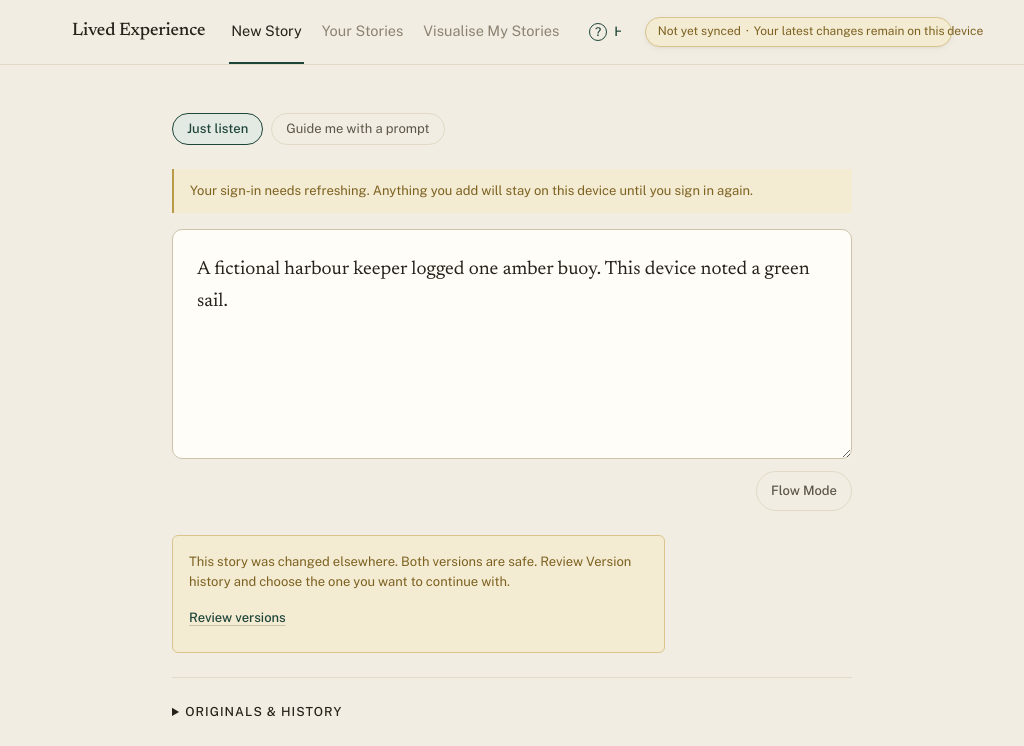
Scenario: App capture integration › preserves both cloud-conflict candidates until Version history receives a deliberate choice
Check: the text "Both versions are safe" is shown, box x1=189 y1=554 x2=631 y2=589
Type " A later device note stayed local." into the text box named "Write or edit your story".
click(512, 344); type(" A later device note stayed local.")  # box x1=172 y1=228 x2=852 y2=459
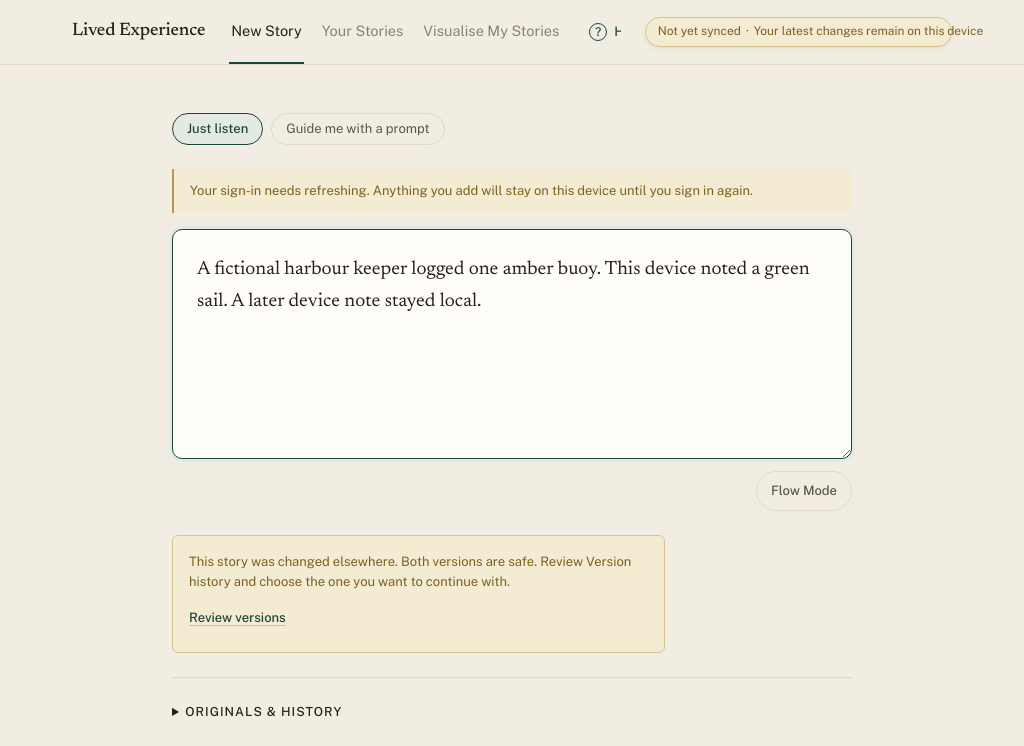
Click the button "Review versions".
click(237, 618)  # box x1=189 y1=600 x2=286 y2=636
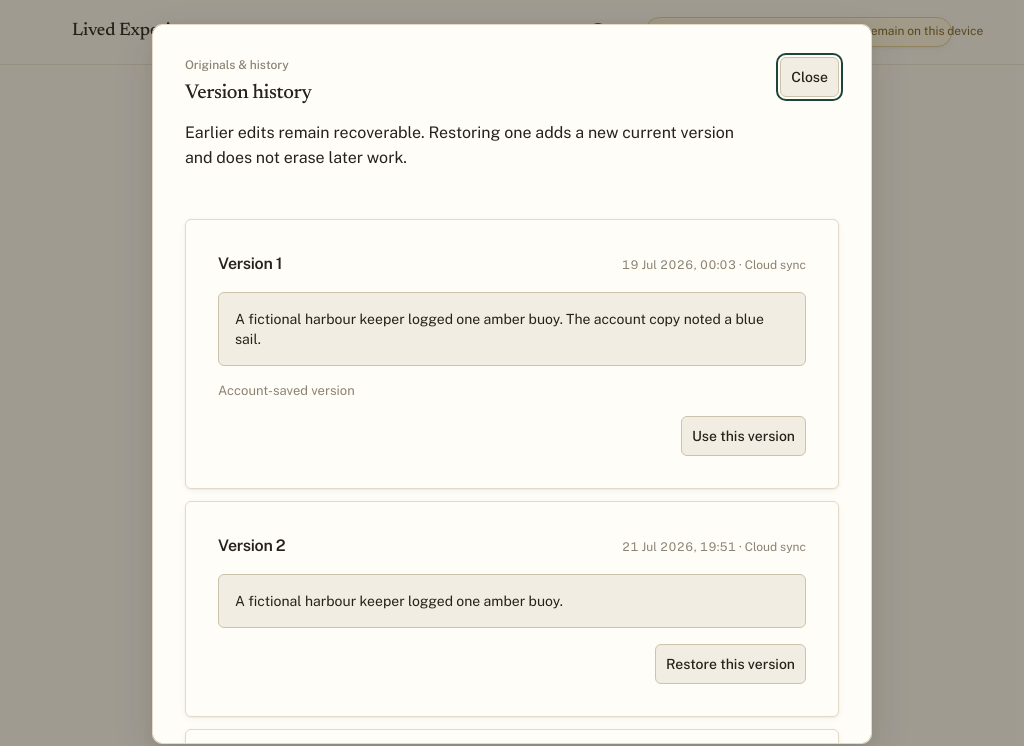
Check: the text "Account-saved version" is shown, box x1=218 y1=383 x2=355 y2=398
Click the button "Use this version".
click(743, 436)  # box x1=681 y1=416 x2=806 y2=456
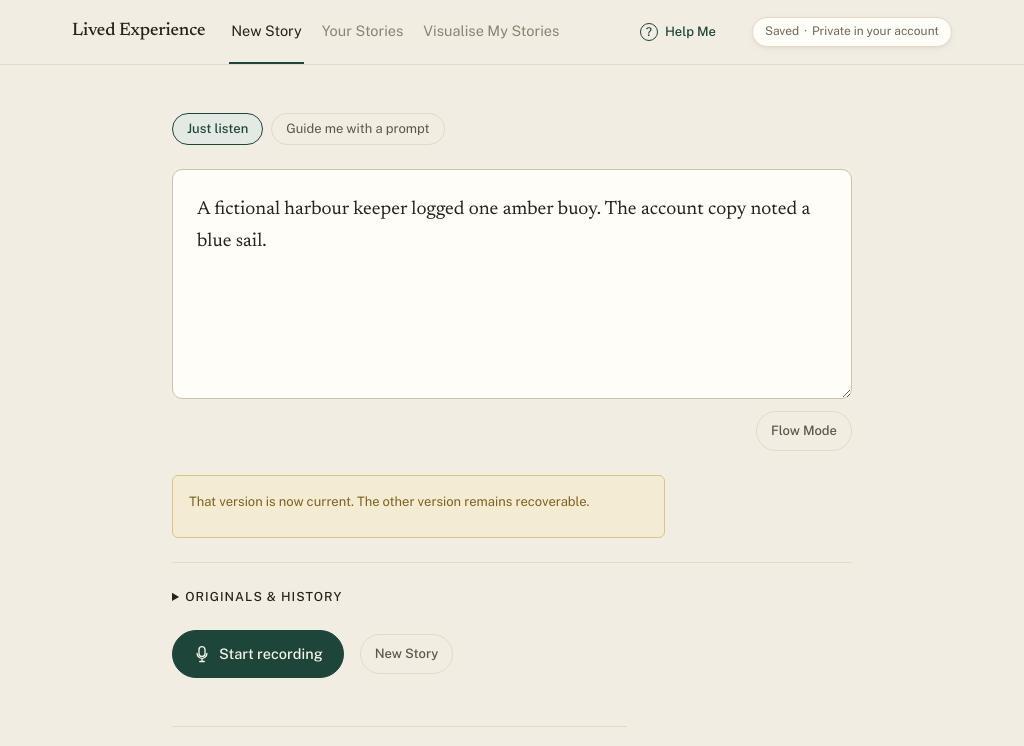
Check: the button "Review versions" is gone
